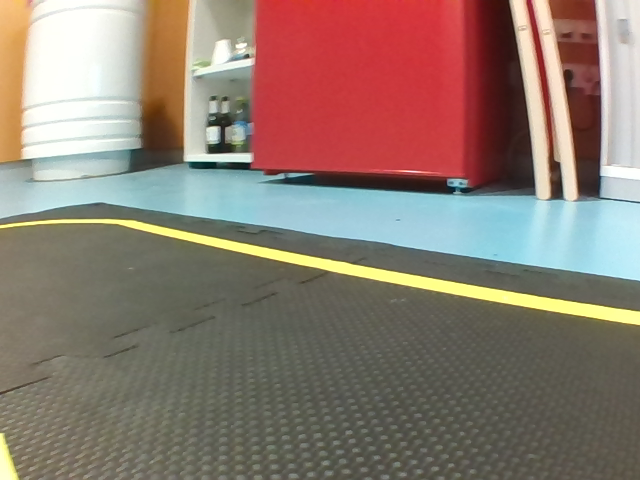no30: (246, 64, 290, 129)
stop: (19, 101, 62, 144)
